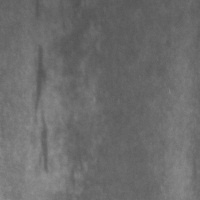inclusion: (31, 41, 57, 117), (35, 108, 53, 180)
